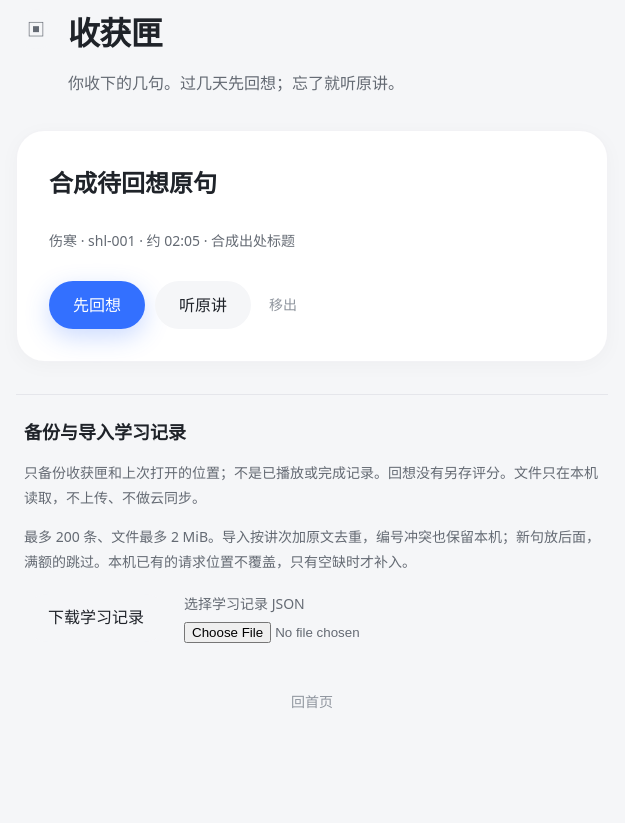
Test case: stash retains recall / replay / remove and the existing storage format
What coordinates should you click on to do the following:
click the button "移出"
I would click on:
 (283, 305)
Its box is [261,290,305,320].
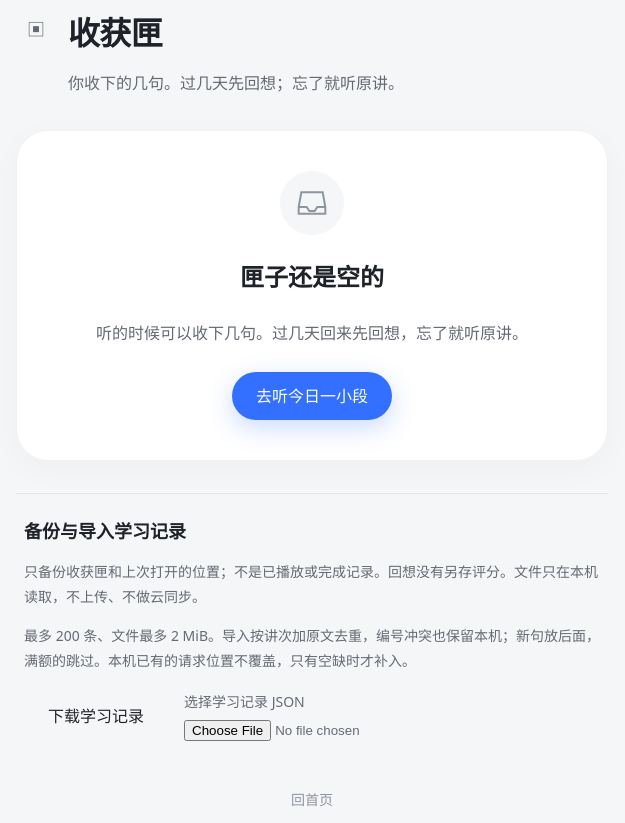
Check: the heading "匣子还是空的" is shown, box [240,259,384,295]
